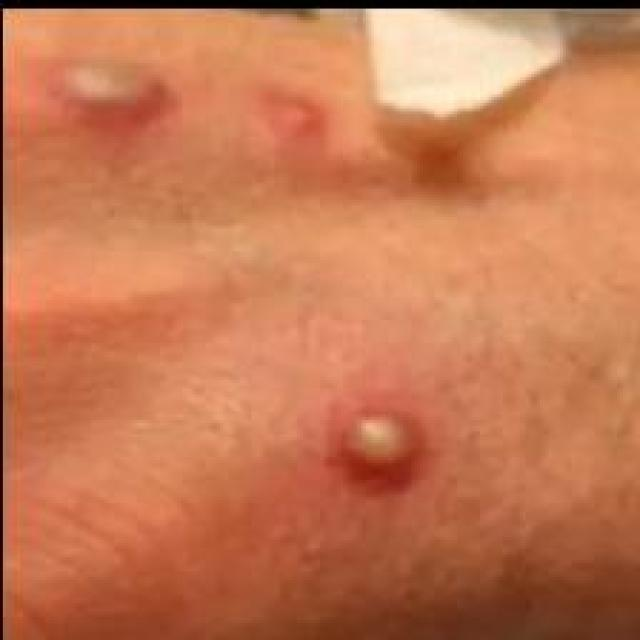monkeypox: (9, 36, 593, 640)
